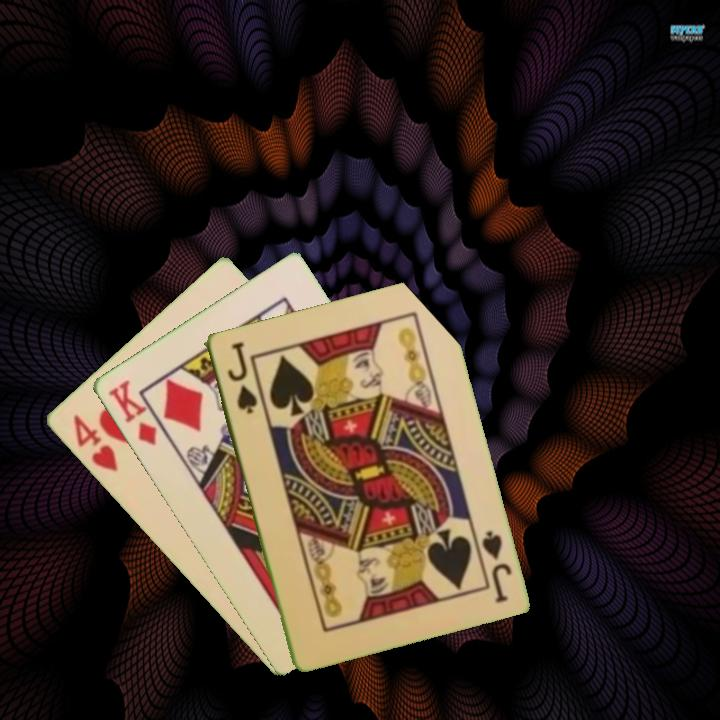4h: (69, 410, 120, 475)
Js: (223, 338, 259, 417), (478, 527, 514, 606)
Kd: (103, 375, 159, 449)
